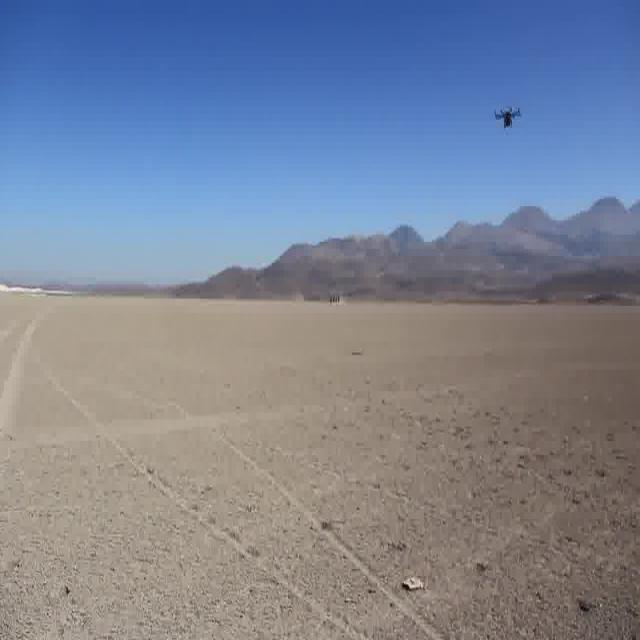Drone_FW: (494, 105, 522, 128)
